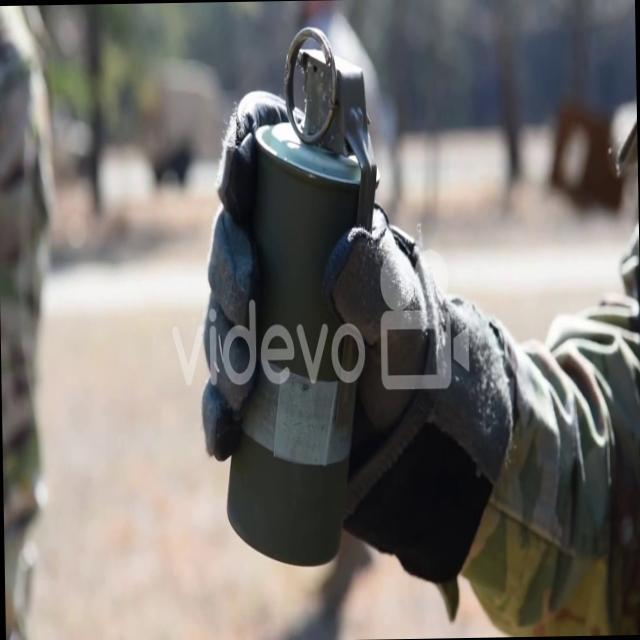grenade: (212, 19, 396, 584)
